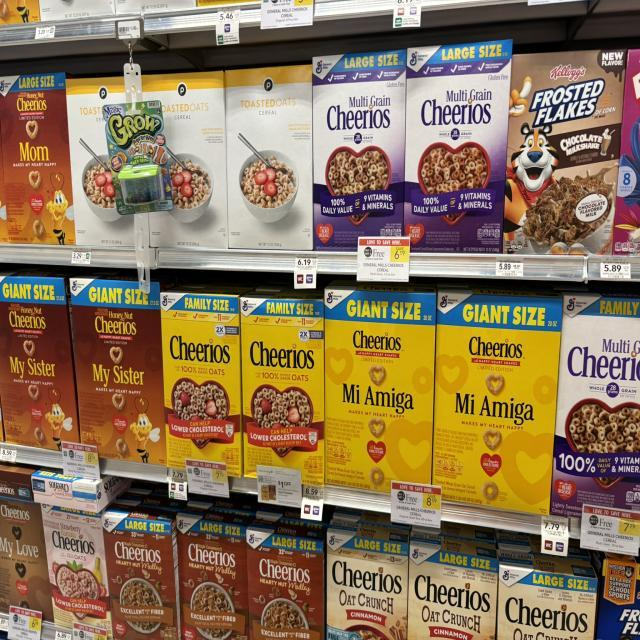Cereal: (432, 288, 562, 514), (504, 50, 626, 255), (324, 282, 436, 492), (404, 40, 512, 253), (550, 292, 640, 517), (70, 277, 175, 465), (312, 50, 406, 250), (240, 288, 325, 486), (225, 65, 312, 250), (160, 287, 244, 477), (142, 72, 228, 248), (0, 272, 80, 450), (0, 73, 75, 245), (66, 77, 134, 247), (326, 508, 410, 640), (408, 522, 499, 640), (102, 505, 180, 638), (176, 510, 249, 640), (246, 520, 325, 640), (41, 505, 112, 638), (498, 550, 598, 640), (0, 498, 54, 621), (612, 50, 640, 255), (590, 550, 640, 640)
